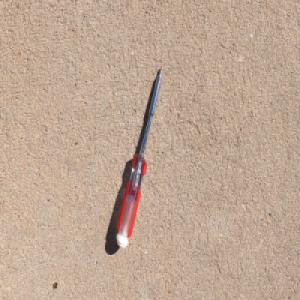Screwdriver: (115, 63, 164, 250)
